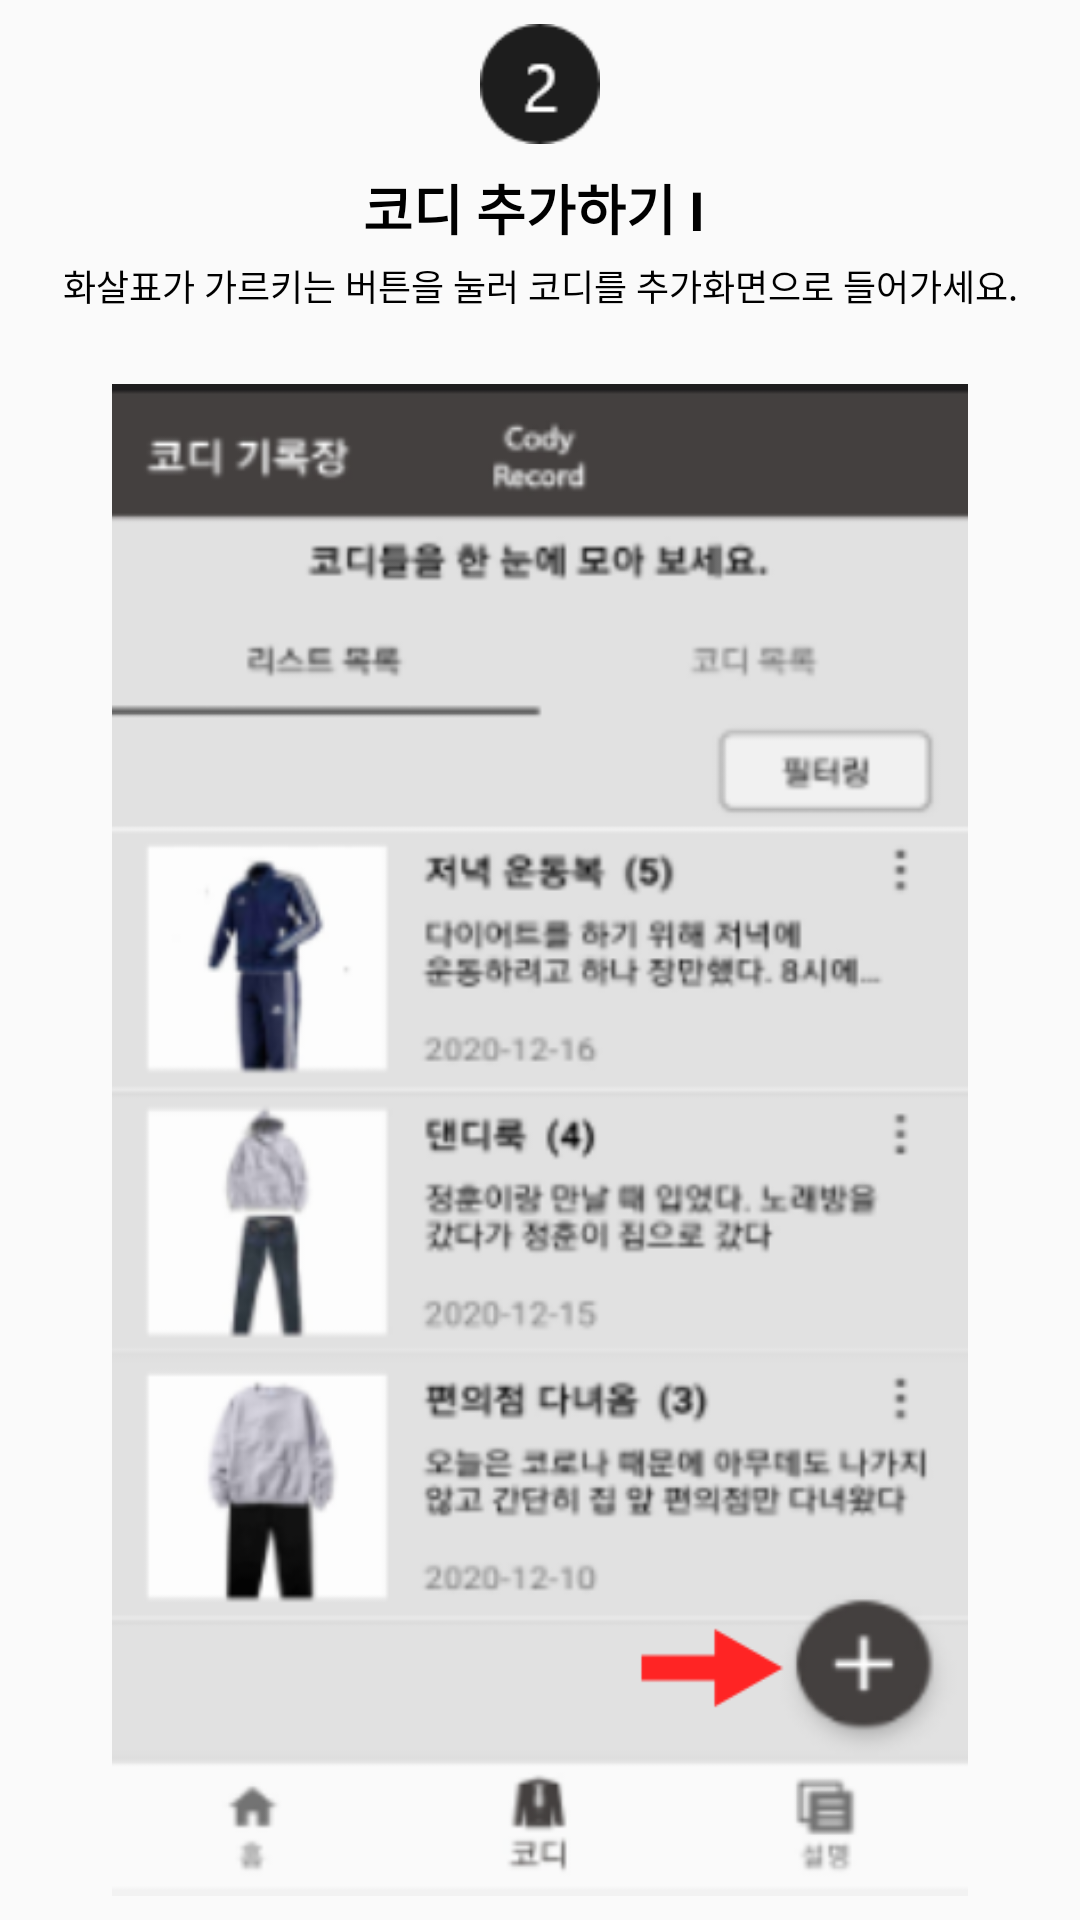

Screen size 1080×1920. Icon name, then its center in pixels as [x,y]:
circle two: [540,84]
